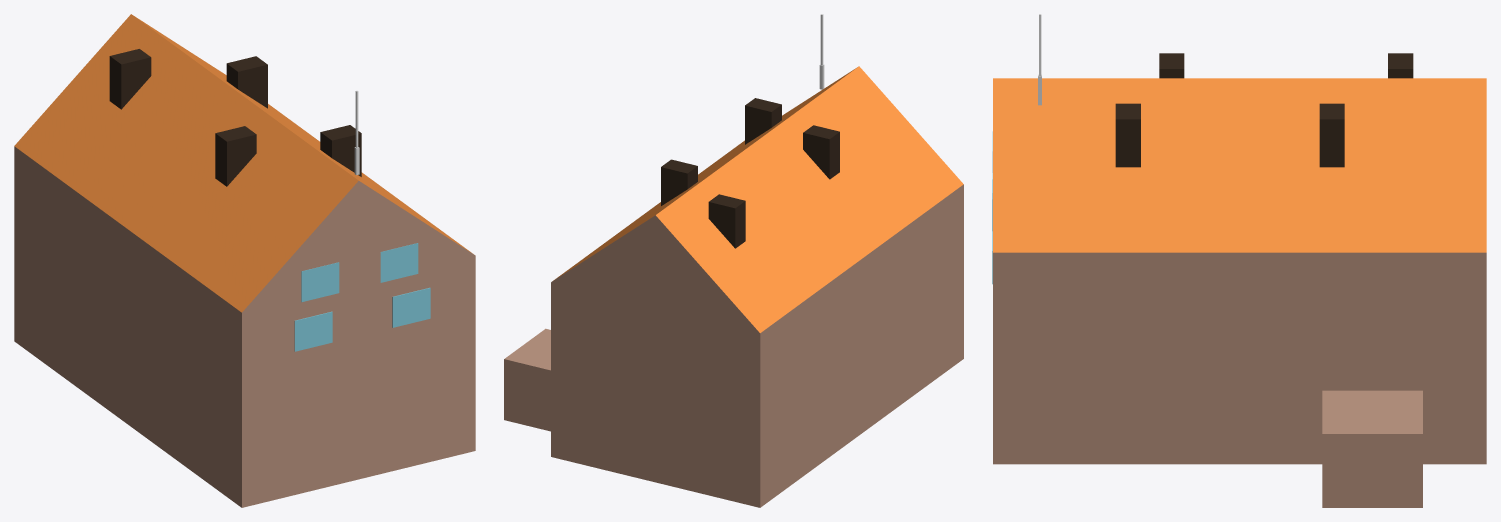
The model's file is house2_L.fbx.
3 views of the same model, side by side, from view 1: azimuth 30°, elevation 25°; view 2: azimuth 150°, elevation 25°; view 3: azimuth 270°, elevation 25° (orthographic). The views are drawn at different scales.
Parts seen in each view (by area): view 1: Cube.035, Cube.039, Cube.040, Cube.038, Cube.037; view 2: Cube.035, Cube.036, Cube.039, Cube.040; view 3: Cube.035, Cube.036, Cube.040, Cube.039.
Boxes of the visible parts, bbox=[...] form: Cube.035: bbox=[14, 14, 475, 507]; Cube.039: bbox=[109, 49, 256, 186]; Cube.040: bbox=[226, 56, 361, 176]; Cube.038: bbox=[294, 287, 430, 351]; Cube.037: bbox=[301, 243, 418, 302]; Cube.035: bbox=[551, 66, 963, 507]; Cube.036: bbox=[504, 328, 550, 431]; Cube.039: bbox=[708, 125, 839, 248]; Cube.040: bbox=[661, 98, 781, 205]; Cube.035: bbox=[993, 78, 1486, 464]; Cube.036: bbox=[1322, 390, 1422, 507]; Cube.040: bbox=[1115, 103, 1344, 167]; Cube.039: bbox=[1159, 53, 1413, 78].
Size of the model in its own units: 15.19 by 19.01 by 16.92.
